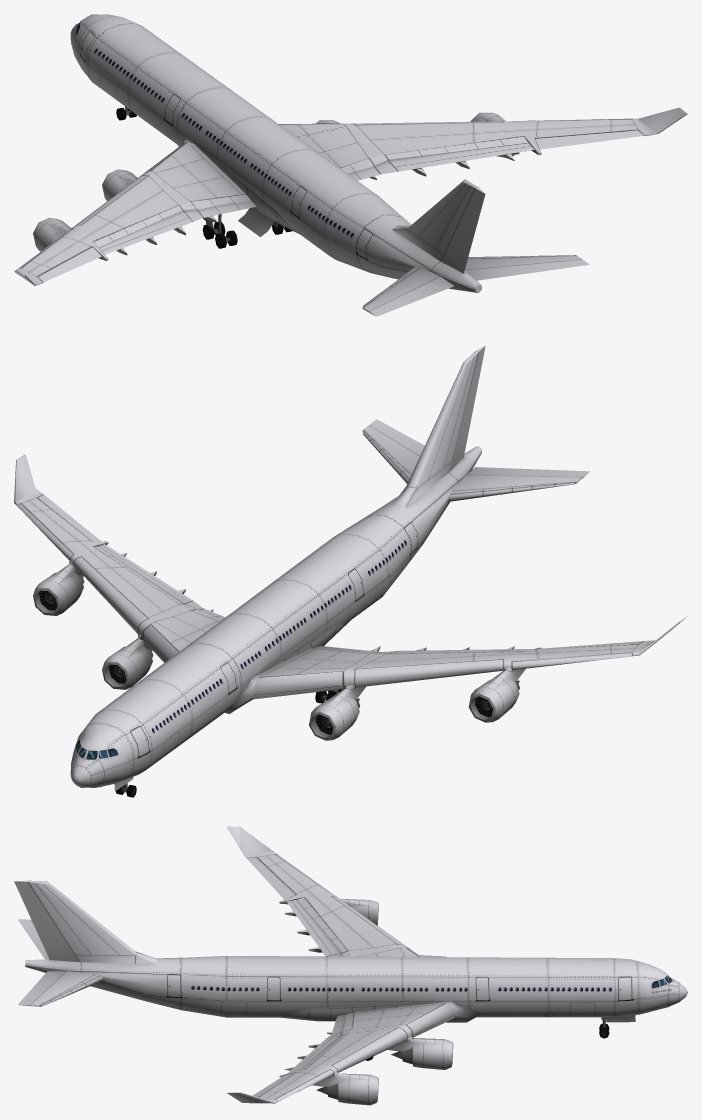
The model's file is airbus_a345.glb.
3 renders of one model, top to bottom at view 1: azimuth 30°, elevation 25°; view 2: azimuth 150°, elevation 25°; view 3: azimuth 270°, elevation 25°, orthographic. The views are drawn at different scales.
Parts seen in each view (by area): view 1: HULL_A345_GA_0; view 2: HULL_A345_GA_0; view 3: HULL_A345_GA_0.
Boxes of the visible parts, left/top/right/bottom form: HULL_A345_GA_0: left=14, top=14, right=687, bottom=316; HULL_A345_GA_0: left=14, top=345, right=687, bottom=797; HULL_A345_GA_0: left=14, top=826, right=687, bottom=1105.
Size of the model in its own units: 63.48 by 17.14 by 67.86.
1 material, 1 textured.
